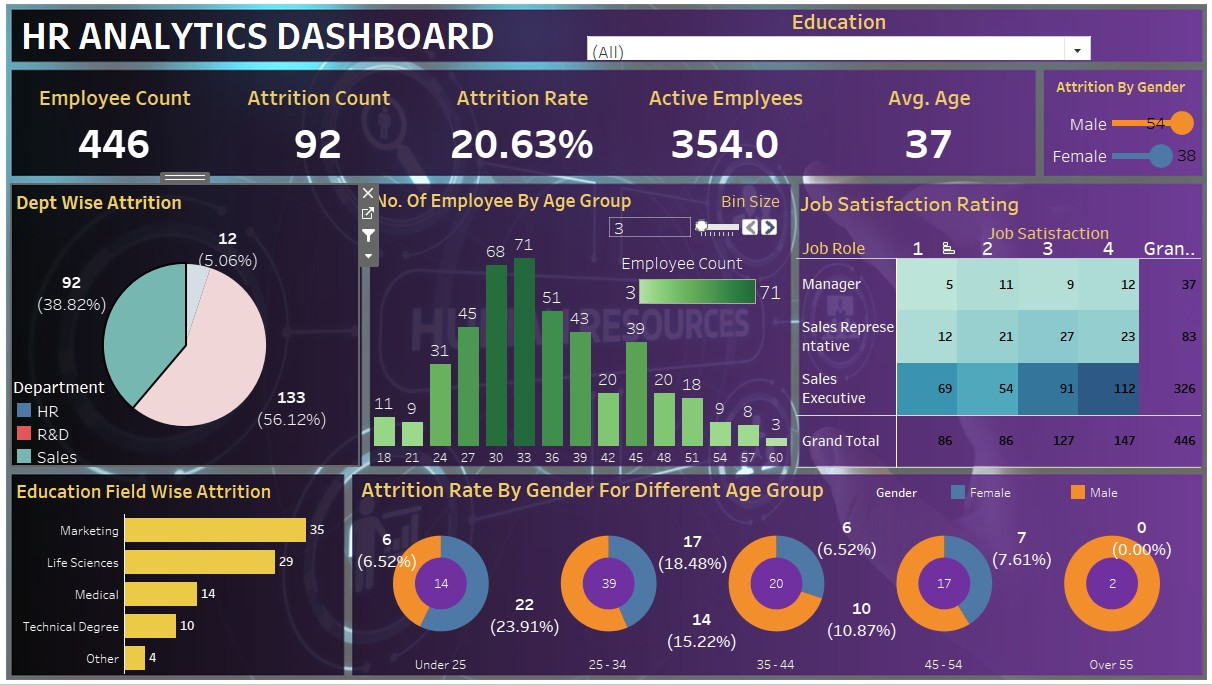

The page's visual inventory and layout, read from the dashboard file:
{"tool":"tableau","page":{"name":"HR Analytics Dashboard","canvas":[1280,700],"ordinal":0},"visuals":[{"type":"image","param":"Image/HR background final.png","box":[8,8,1264,684]},{"type":"filter","title":"Dept Wise Attrition","param":"[federated.0ip1zpd0ai3lzq1g1te4b1hxfe0w].[none:Education:nk]","box":[617,15,510,53]},{"type":"text","box":[50,22,490,41]},{"type":"worksheet","title":"KPI","mark":"Automatic","box":[46,79,1019,102]},{"type":"worksheet","title":"Attrition By Gender","mark":"Automatic","rows":["Gender"],"cols":["Calculation_170010950689271808","Calculation_170010950689271808"],"box":[1077,81,153,99]},{"type":"worksheet","title":"No. Of Employee By Age Group","mark":"Automatic","rows":["Employee Count"],"cols":["Age (bin)"],"box":[403,191,420,284]},{"type":"worksheet","title":"Dept Wise Attrition","mark":"Pie","box":[45,193,346,280]},{"type":"worksheet","title":"Job Satisfaction Rating","mark":"Square","rows":["Job Role"],"cols":["Job Satisfaction"],"box":[829,193,405,283]},{"type":"parameter","param":"[Parameters].[Parameter 1]","box":[639,198,174,54]},{"type":"legend","title":"No. Of Employee By Age Group","param":"[federated.0ip1zpd0ai3lzq1g1te4b1hxfe0w].[sum:Employee Count:qk]","box":[654,259,165,53]},{"type":"legend","title":"Dept Wise Attrition","param":"[federated.0ip1zpd0ai3lzq1g1te4b1hxfe0w].[none:Department:nk]","box":[46,384,103,109]},{"type":"worksheet","title":"Attrition Rate By Gender For Different Age Group","mark":"Pie","rows":["Calculation_170010950747795461","Calculation_170010950747795461"],"cols":["CF_age band"],"box":[390,479,840,203]},{"type":"worksheet","title":"Education Field Wise Attrition","mark":"Automatic","rows":["Education Field"],"cols":["Calculation_170010950689271808"],"box":[45,482,330,200]},{"type":"legend","title":"Attrition Rate By Gender For Different Age Group","param":"[federated.0ip1zpd0ai3lzq1g1te4b1hxfe0w].[none:Gender:nk]","box":[909,490,318,34]}]}

Visuals, with their boxes on the page's 1280x700 design canvas (x1, y1, x2, y2). These are canvas units, not pixel positions in the 1212x685 screenshot, which may show the page scaled, cropped or inside an application window:
image: box(8, 8, 1272, 692)
"Dept Wise Attrition" filter: box(617, 15, 1127, 68)
text: box(50, 22, 540, 63)
"KPI" worksheet: box(46, 79, 1065, 181)
"Attrition By Gender" worksheet: box(1077, 81, 1230, 180)
"No. Of Employee By Age Group" worksheet: box(403, 191, 823, 475)
"Dept Wise Attrition" worksheet (Pie marks): box(45, 193, 391, 473)
"Job Satisfaction Rating" worksheet (Square marks): box(829, 193, 1234, 476)
parameter: box(639, 198, 813, 252)
"No. Of Employee By Age Group" legend: box(654, 259, 819, 312)
"Dept Wise Attrition" legend: box(46, 384, 149, 493)
"Attrition Rate By Gender For Different Age Group" worksheet (Pie marks): box(390, 479, 1230, 682)
"Education Field Wise Attrition" worksheet: box(45, 482, 375, 682)
"Attrition Rate By Gender For Different Age Group" legend: box(909, 490, 1227, 524)
